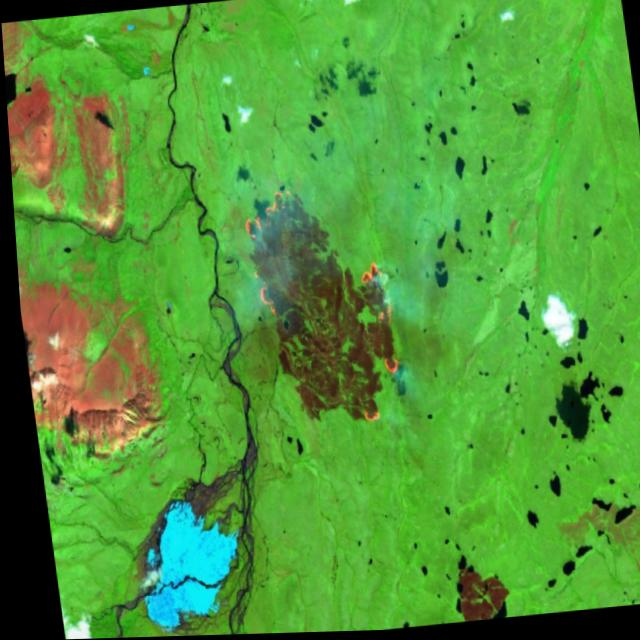fire: (229, 174, 408, 445)
